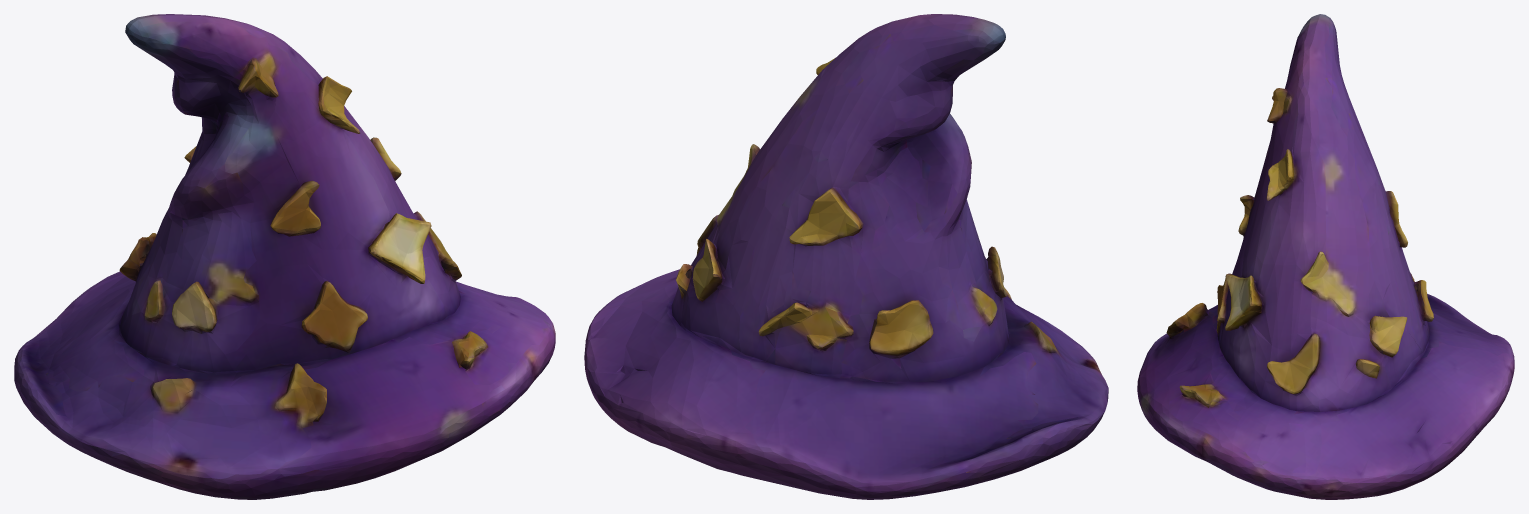
Rendered from purple_wizard_hat.glb.
The picture shows the model from 3 angles, left to right: view 1: azimuth 30°, elevation 25°; view 2: azimuth 150°, elevation 25°; view 3: azimuth 270°, elevation 25°; orthographic projection. The views are drawn at different scales.
Parts seen in each view (by area): view 1: geometry_0; view 2: geometry_0; view 3: geometry_0.
Part boxes in pixels (x1,y1,x2,y2): geometry_0: (14,14,555,499); geometry_0: (584,14,1108,499); geometry_0: (1137,14,1514,499).
Bounding box in the file's own units: 0.45 × 0.3747 × 0.3725.
1 material, 1 textured.
